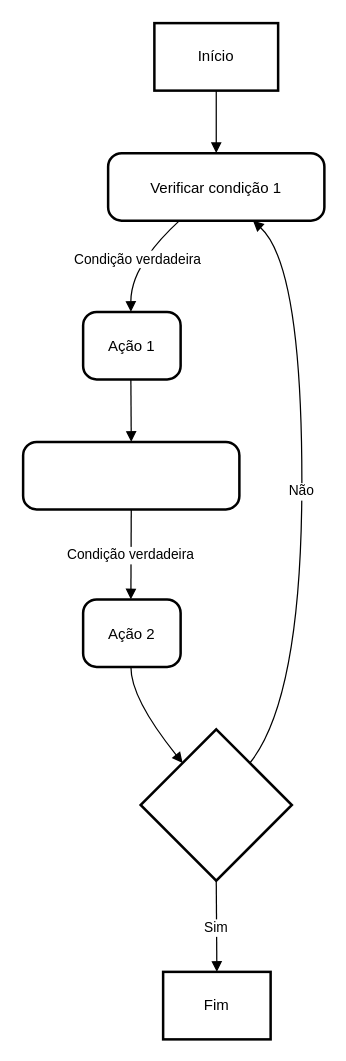
Some shapes in this 346 by 1061 pixel diagram are drawn without their labels. The centre of each missing label's shape, as x and y in pixels:
"Finalizar?" belongs at point (215, 804).
"Verificar condição 2" belongs at point (130, 475).
